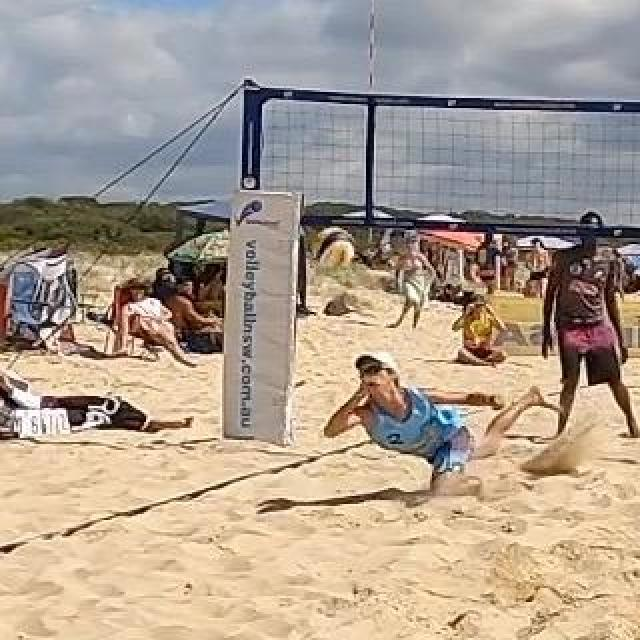volleyball: (310, 228, 354, 270)
